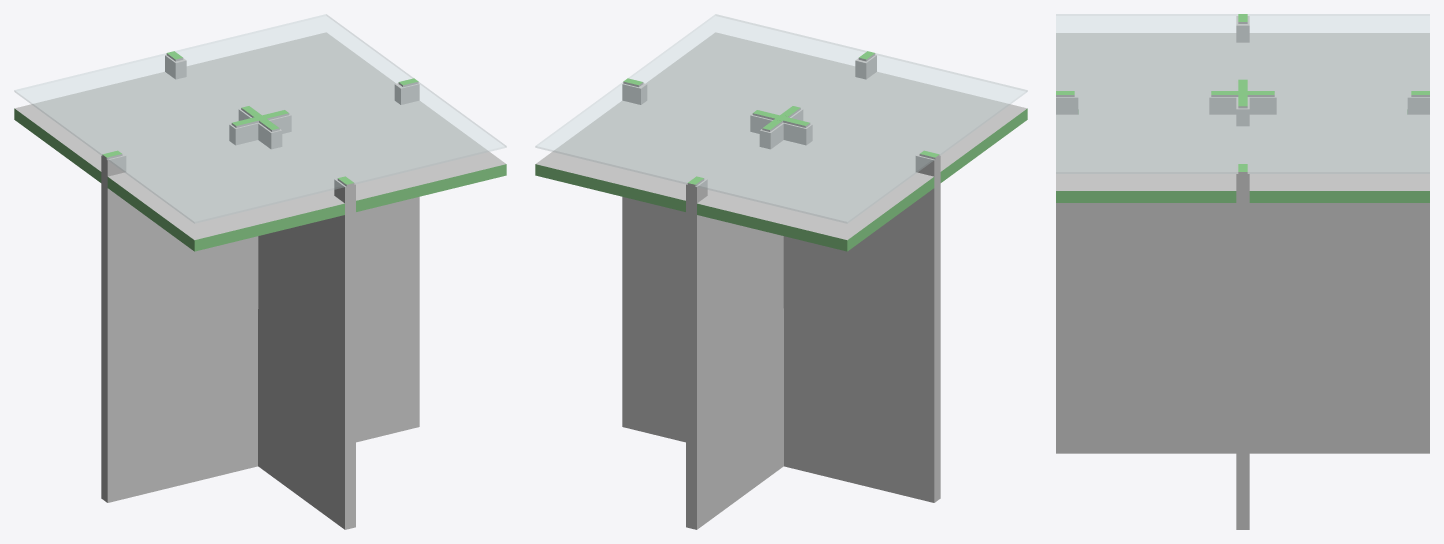
File: 00-prototype.glb
3 renders of one model, left to right at view 1: azimuth 30°, elevation 25°; view 2: azimuth 150°, elevation 25°; view 3: azimuth 270°, elevation 25°, orthographic. The views are drawn at different scales.
Visible parts, largest first — view 1: 03 支撑 B｜35 mm｜下开槽＋一体穿榫, 01 台面｜35 mm｜十字穿槽＋四边开口槽, 齐边玻璃｜5.26 mm, 02 支撑 A｜35 mm｜上开槽＋一体穿榫; view 2: 03 支撑 B｜35 mm｜下开槽＋一体穿榫, 01 台面｜35 mm｜十字穿槽＋四边开口槽, 齐边玻璃｜5.26 mm, 02 支撑 A｜35 mm｜上开槽＋一体穿榫; view 3: 02 支撑 A｜35 mm｜上开槽＋一体穿榫, 01 台面｜35 mm｜十字穿槽＋四边开口槽, 齐边玻璃｜5.26 mm, 03 支撑 B｜35 mm｜下开槽＋一体穿榫.
Part boxes in pixels (x1,y1,x2,y2): 03 支撑 B｜35 mm｜下开槽＋一体穿榫: [101, 78, 419, 502]; 01 台面｜35 mm｜十字穿槽＋四边开口槽: [14, 32, 506, 251]; 齐边玻璃｜5.26 mm: [14, 14, 506, 223]; 02 支撑 A｜35 mm｜上开槽＋一体穿榫: [165, 51, 355, 529]; 03 支撑 B｜35 mm｜下开槽＋一体穿榫: [622, 78, 940, 502]; 01 台面｜35 mm｜十字穿槽＋四边开口槽: [535, 32, 1027, 251]; 齐边玻璃｜5.26 mm: [535, 14, 1027, 223]; 02 支撑 A｜35 mm｜上开槽＋一体穿榫: [686, 51, 876, 529]; 02 支撑 A｜35 mm｜上开槽＋一体穿榫: [1056, 91, 1429, 453]; 01 台面｜35 mm｜十字穿槽＋四边开口槽: [1056, 33, 1429, 202]; 齐边玻璃｜5.26 mm: [1056, 14, 1429, 173]; 03 支撑 B｜35 mm｜下开槽＋一体穿榫: [1236, 14, 1249, 529].
Size of the model in its own units: 1 by 1.06 by 1.
